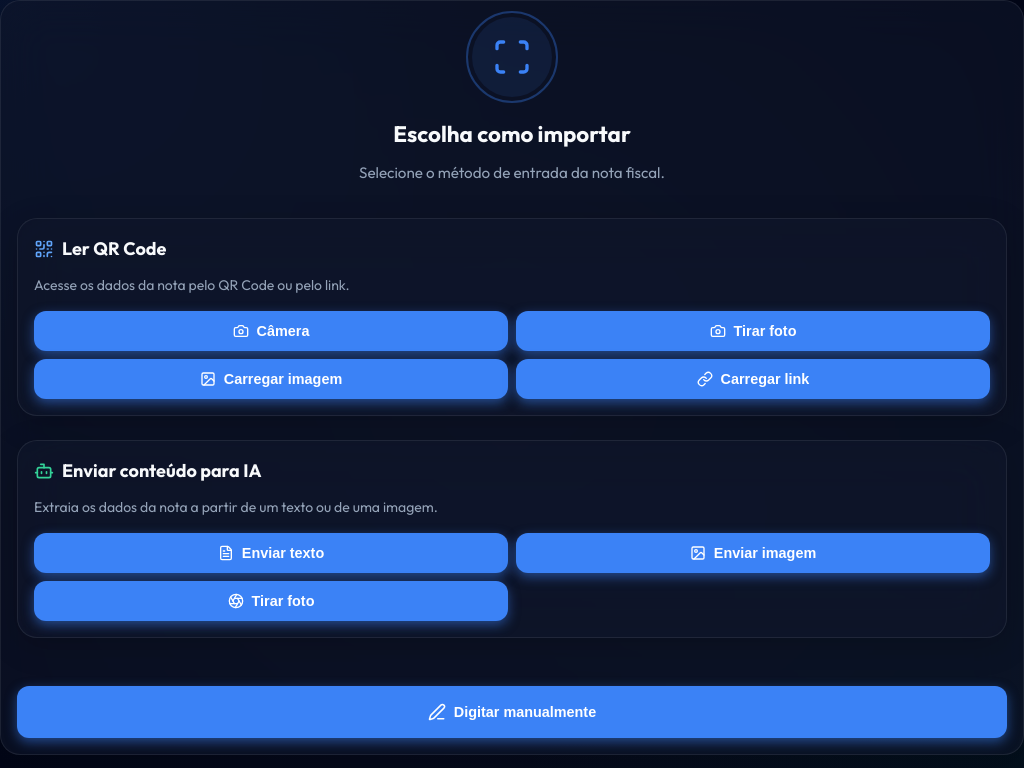
Scenario: IdleScreen › permite retornar à seleção inicial de cards pelo botão Voltar
The image size is (1024, 768).
Note: Entra no grupo QR
Click the button "Carregar link" at (753,378), box [516,358,990,398]
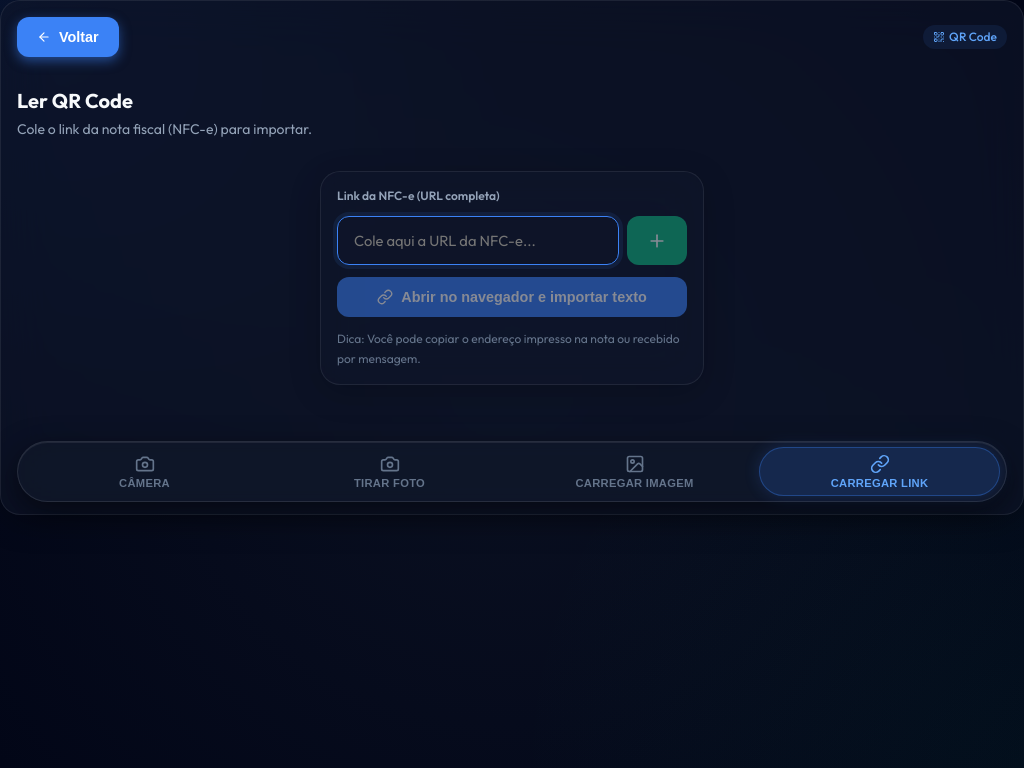
Expected: the field with placeholder "Cole aqui a URL da NFC-e..." is shown, [337,216,619,265]
Note: Clica em Voltar
Click the button "Voltar" at (68,37), box [17,17,119,57]
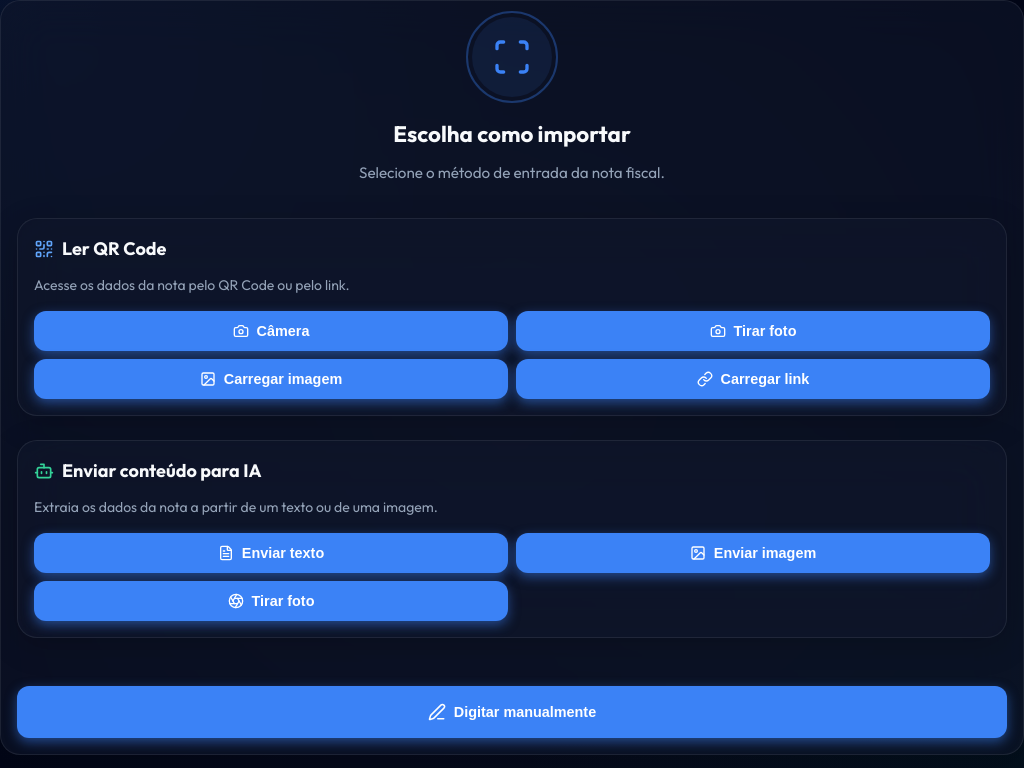
Expected: the heading "Escolha como importar" is shown, [393,120,631,148]
Expected: the button "Digitar manualmente" is shown, [17,686,1007,738]
